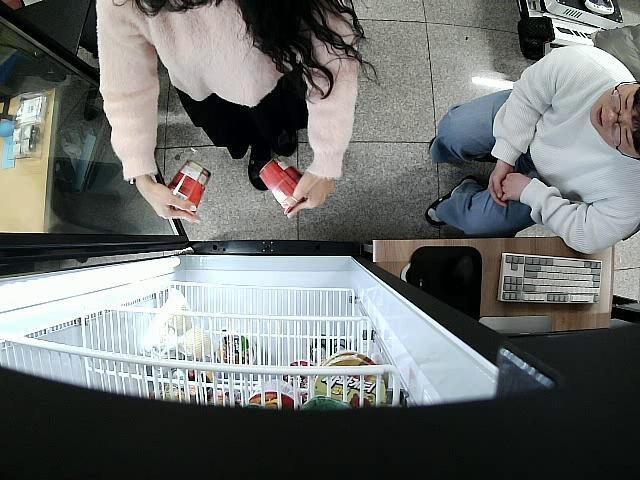02_shinRamen_S: (258, 158, 309, 214), (166, 162, 211, 216)
